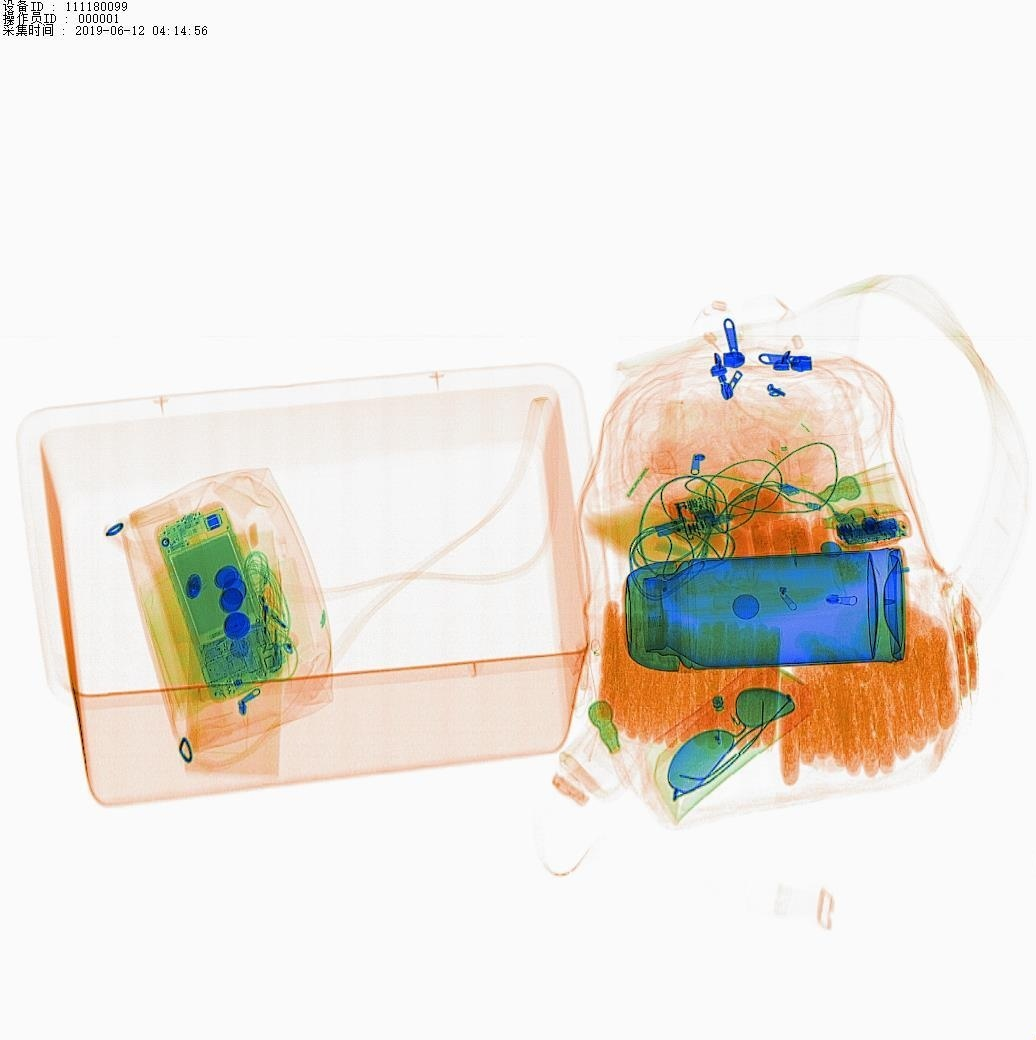NonmetallicFire: (247, 549, 317, 688)
